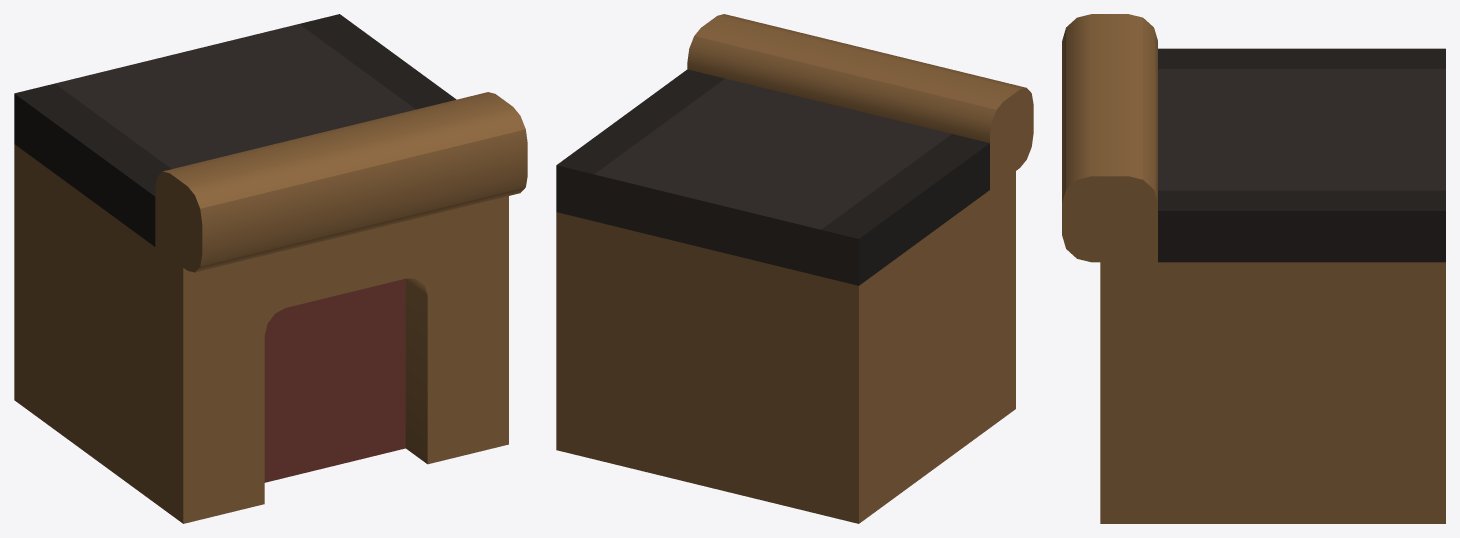
The model's file is conveyor_3 (1).fbx.
The picture shows the model from 3 angles, left to right: view 1: azimuth 30°, elevation 25°; view 2: azimuth 150°, elevation 25°; view 3: azimuth 270°, elevation 25°; orthographic projection. The views are drawn at different scales.
Parts seen in each view (by area): view 1: Cube.001, Cube.002, Cube.003, Cube.004; view 2: Cube.001, Cube.002, Cube.004; view 3: Cube.001, Cube.002, Cube.004.
Part boxes in pixels (x1,y1,x2,y2): Cube.001: (14, 92, 527, 523); Cube.002: (55, 24, 415, 168); Cube.003: (264, 278, 405, 482); Cube.004: (14, 14, 456, 246); Cube.001: (556, 14, 1033, 523); Cube.002: (556, 78, 951, 285); Cube.004: (557, 69, 989, 285); Cube.001: (1062, 14, 1445, 523); Cube.002: (1158, 69, 1445, 190); Cube.004: (1158, 48, 1445, 262).
Bounding box in the file's own units: 200 × 200 × 200.
